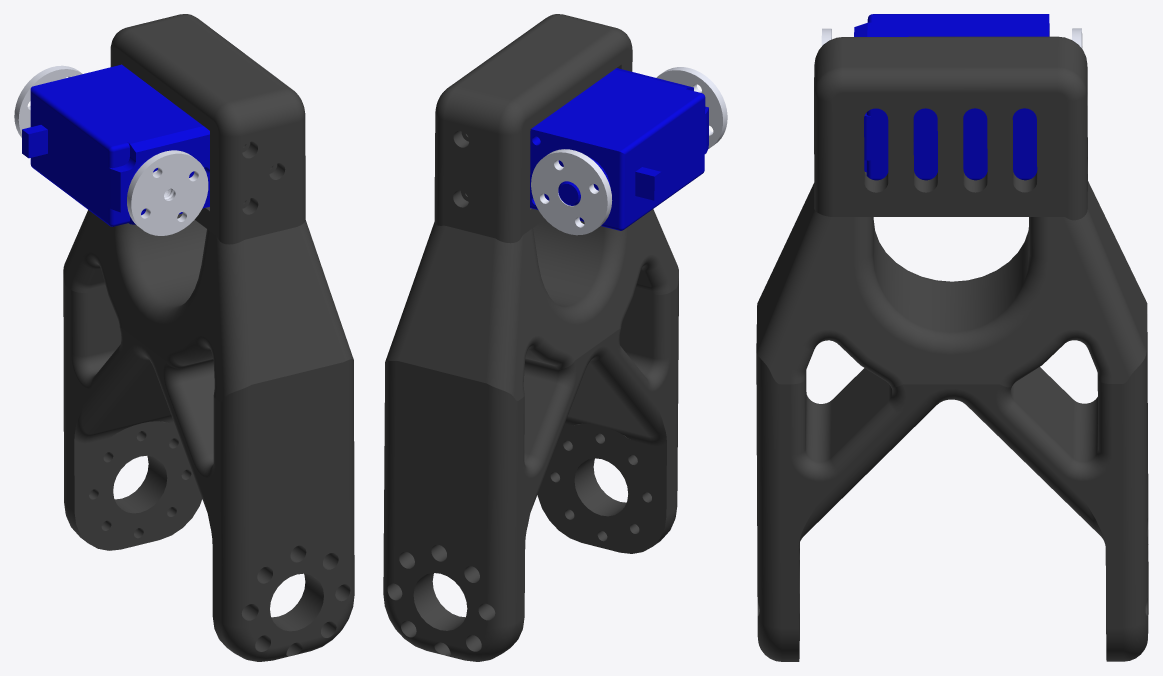
Rendered from shoulder.glb.
3 views of the same model, side by side, from view 1: azimuth 30°, elevation 25°; view 2: azimuth 150°, elevation 25°; view 3: azimuth 270°, elevation 25° (orthographic). The views are drawn at different scales.
Visible parts, largest first — view 1: Solder; view 2: Solder; view 3: Solder.
Part boxes in pixels (box(x1,y1,x2,y2)): Solder: box(14, 14, 354, 661); Solder: box(383, 14, 727, 661); Solder: box(756, 14, 1148, 661).
Bounding box in the file's own units: 5.78 × 13.43 × 8.04.
